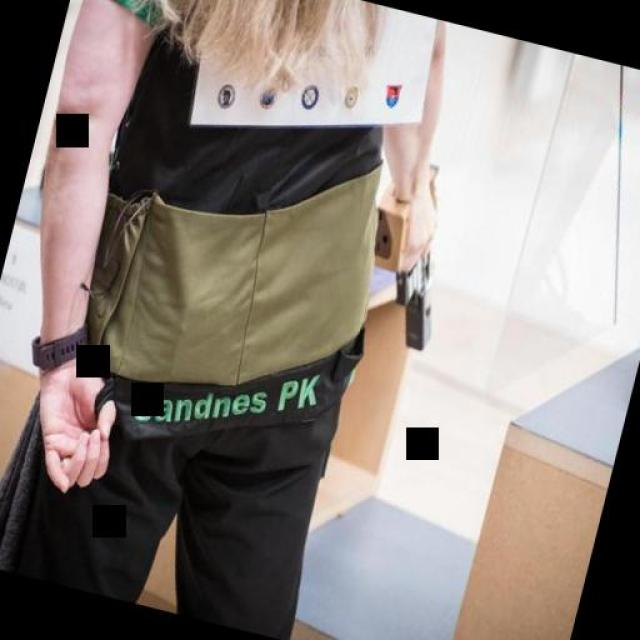gun: (342, 135, 478, 359)
